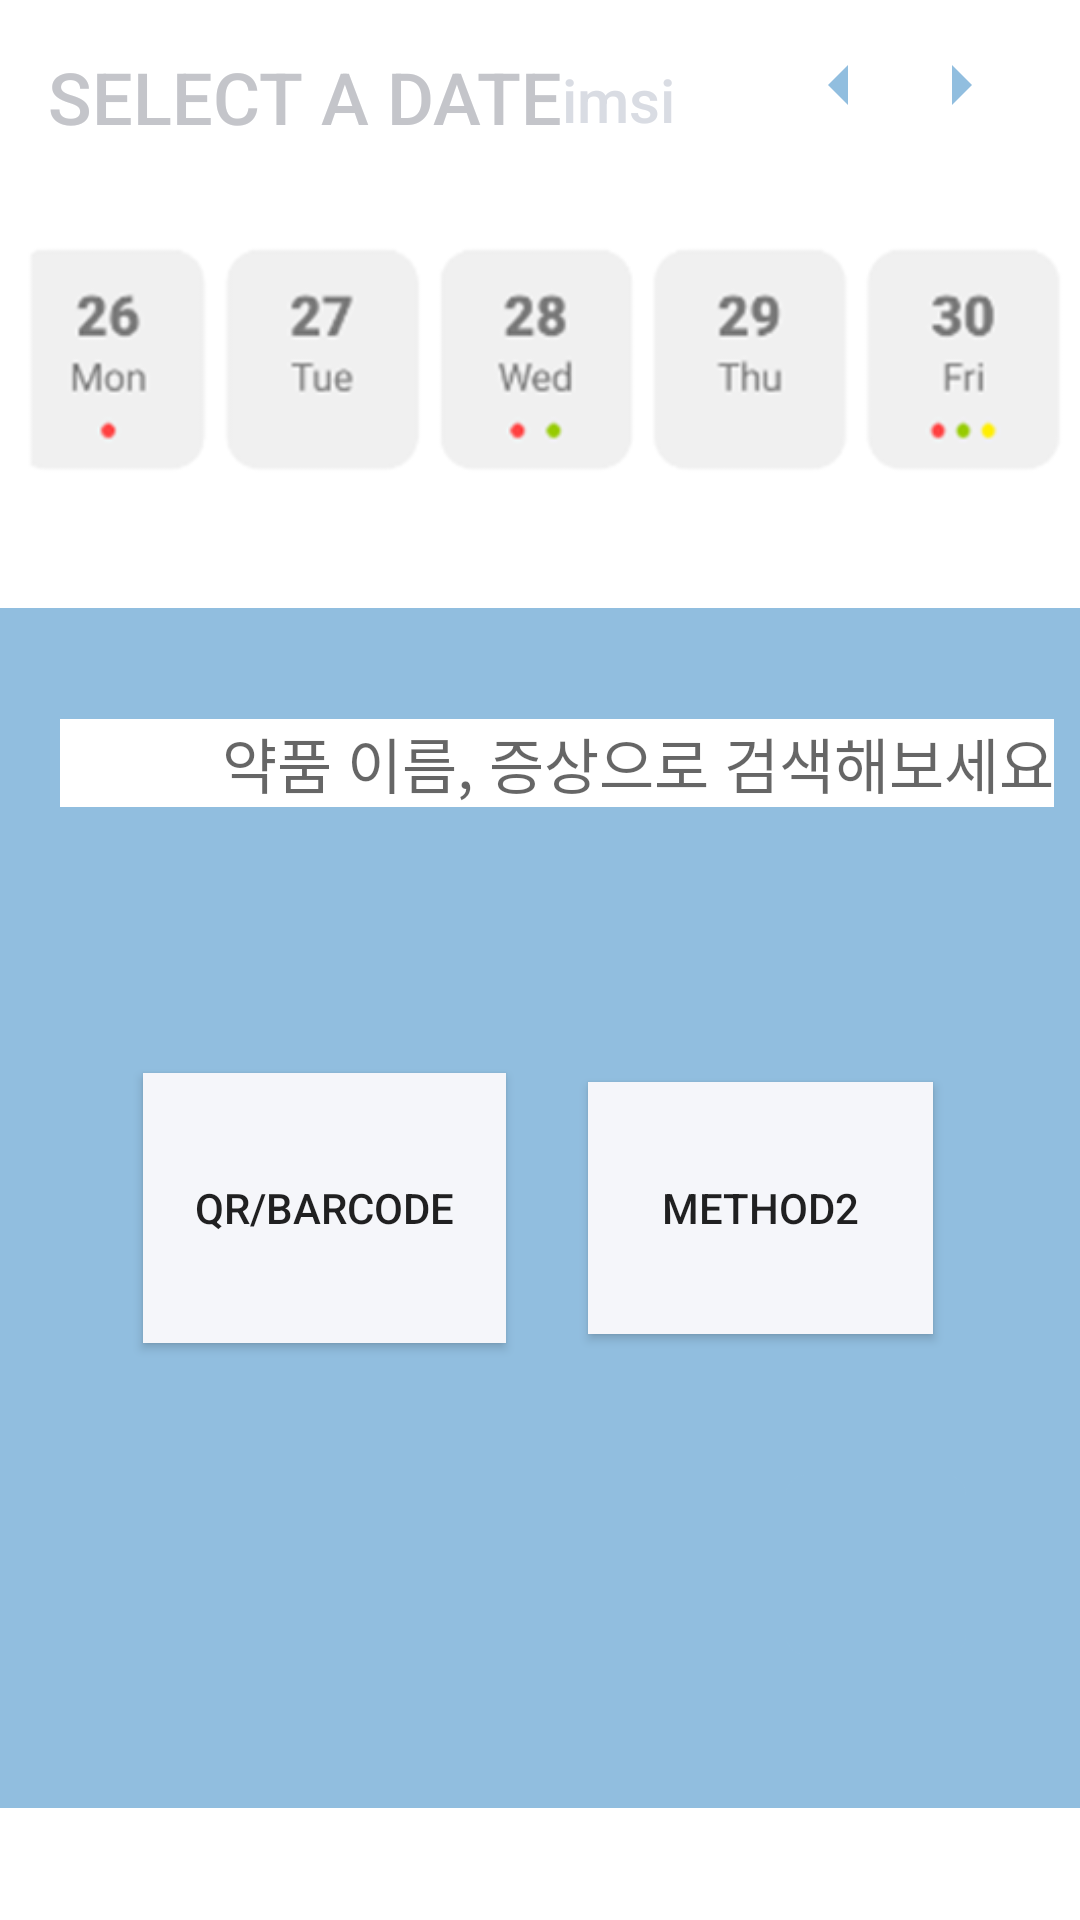

Screen size 1080*1920. Icon name, then its center in pixels as point (x, y):
arrow left: point (838, 85)
arrow right: point (962, 85)
